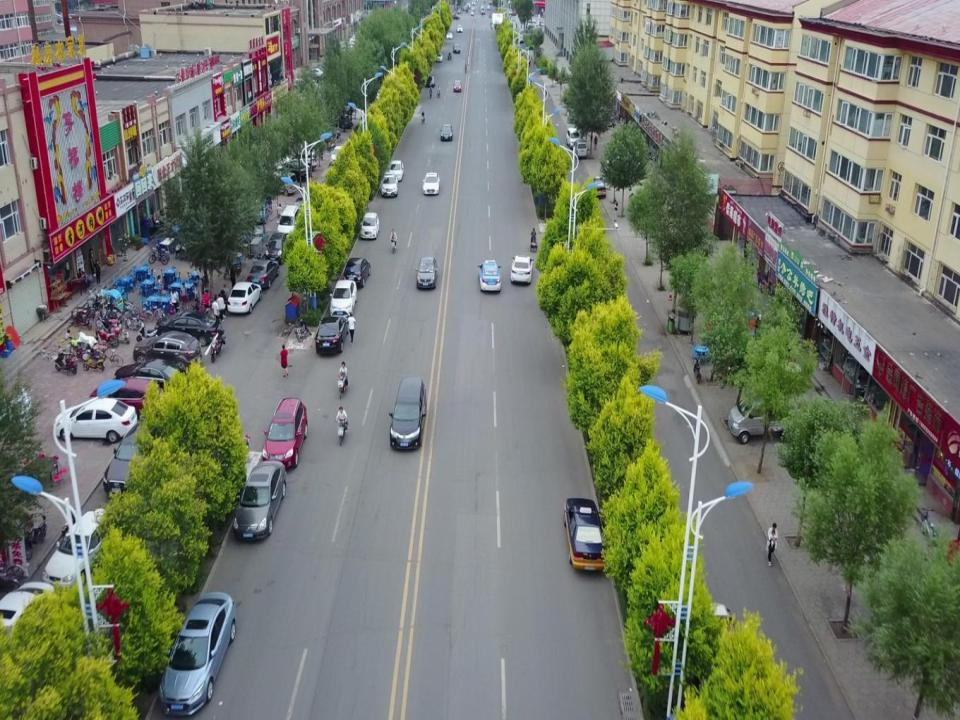car: (158, 589, 238, 716), (41, 506, 113, 593), (103, 412, 166, 499), (232, 459, 288, 544), (87, 377, 165, 431), (0, 581, 56, 653), (54, 397, 137, 445), (114, 358, 188, 410), (261, 396, 309, 471), (563, 497, 609, 574), (389, 375, 428, 452), (132, 329, 202, 370), (155, 310, 221, 346), (315, 315, 349, 356), (227, 280, 262, 316), (328, 279, 357, 317), (248, 259, 280, 289), (342, 257, 371, 289), (414, 256, 438, 291), (477, 258, 501, 293), (275, 161, 310, 183), (510, 253, 534, 285), (265, 231, 287, 264), (283, 150, 318, 170), (360, 212, 380, 240), (422, 170, 441, 196), (381, 170, 398, 198), (387, 159, 404, 182), (565, 127, 581, 148), (329, 145, 346, 164), (592, 176, 606, 199), (440, 123, 453, 141), (452, 80, 462, 92), (426, 76, 436, 88), (452, 43, 460, 54), (434, 53, 443, 62)
truck: (728, 392, 809, 444)
van: (276, 204, 300, 243), (268, 171, 298, 197), (574, 138, 587, 158)
